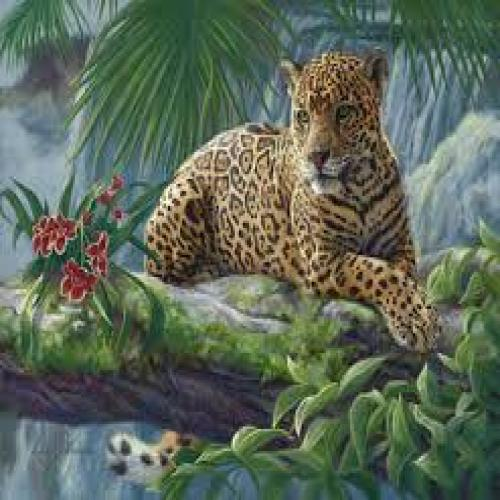jaguar_not-endangered: (148, 55, 436, 351)
